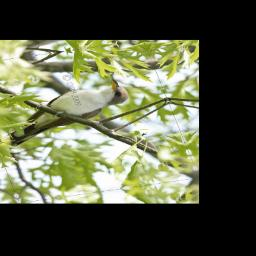Cuckoo: (0, 77, 144, 147)
